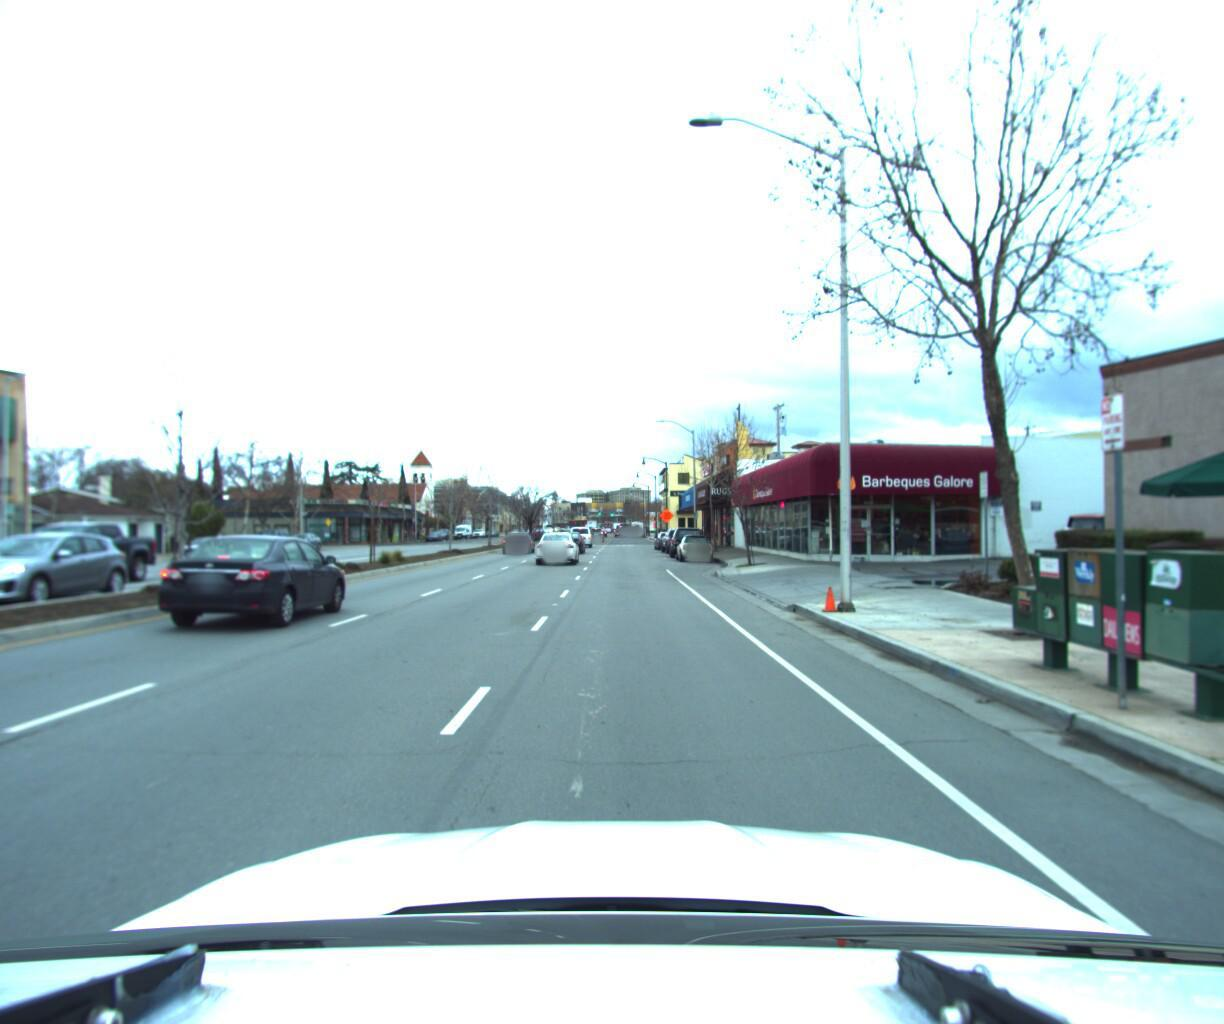car: (152, 529, 359, 633), (537, 527, 582, 563), (178, 535, 237, 562), (673, 530, 713, 561), (666, 525, 703, 556), (661, 525, 693, 551), (500, 527, 536, 550), (575, 523, 597, 542)
